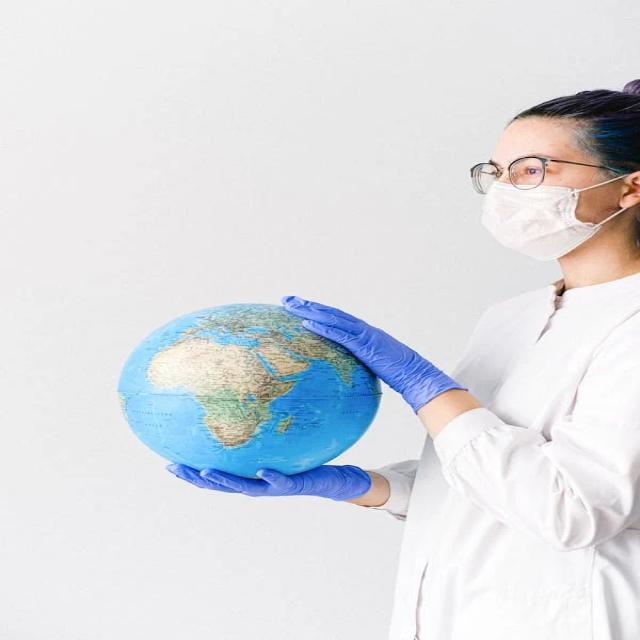mask: (438, 108, 640, 274)
